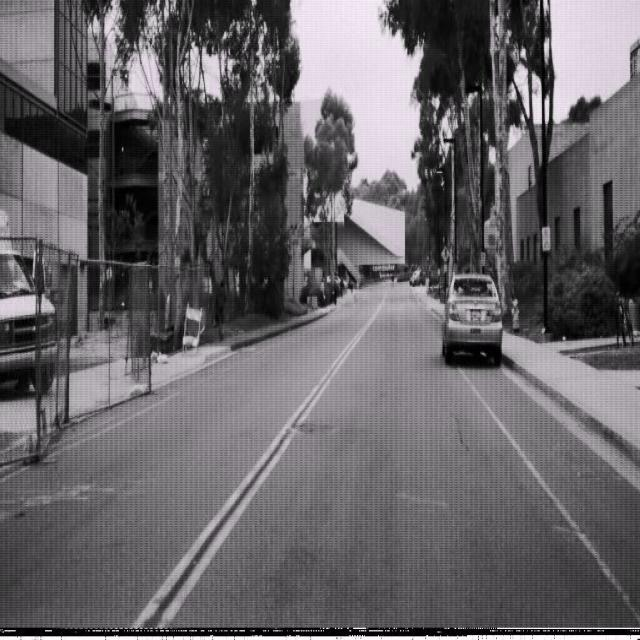pedestrianCrossing: (441, 244, 450, 262)
